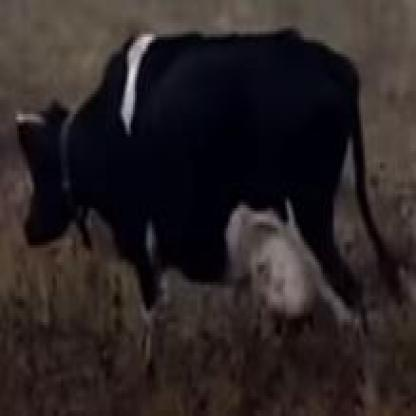cow: (20, 33, 360, 369)
